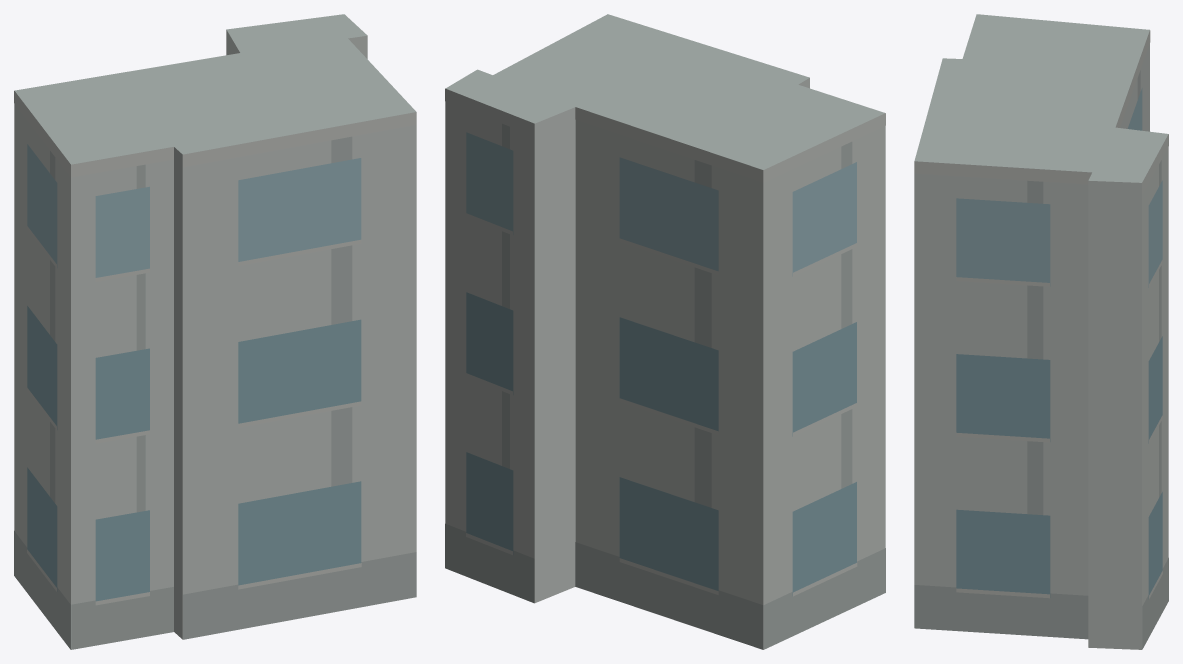
File: survey-upis-32634471.glb
3 views of the same model, side by side, from view 1: azimuth 30°, elevation 25°; view 2: azimuth 150°, elevation 25°; view 3: azimuth 270°, elevation 25° (orthographic). The views are drawn at different scales.
Visible parts, largest first — view 1: survey-upis-32634471.tmp; view 2: survey-upis-32634471.tmp; view 3: survey-upis-32634471.tmp.
Boxes of the visible parts, x1,y1,x2,y2 form: survey-upis-32634471.tmp: (14, 14, 416, 649); survey-upis-32634471.tmp: (445, 14, 885, 649); survey-upis-32634471.tmp: (914, 14, 1168, 649).
Bounding box in the file's own units: 7.1 × 9.15 × 4.53.
